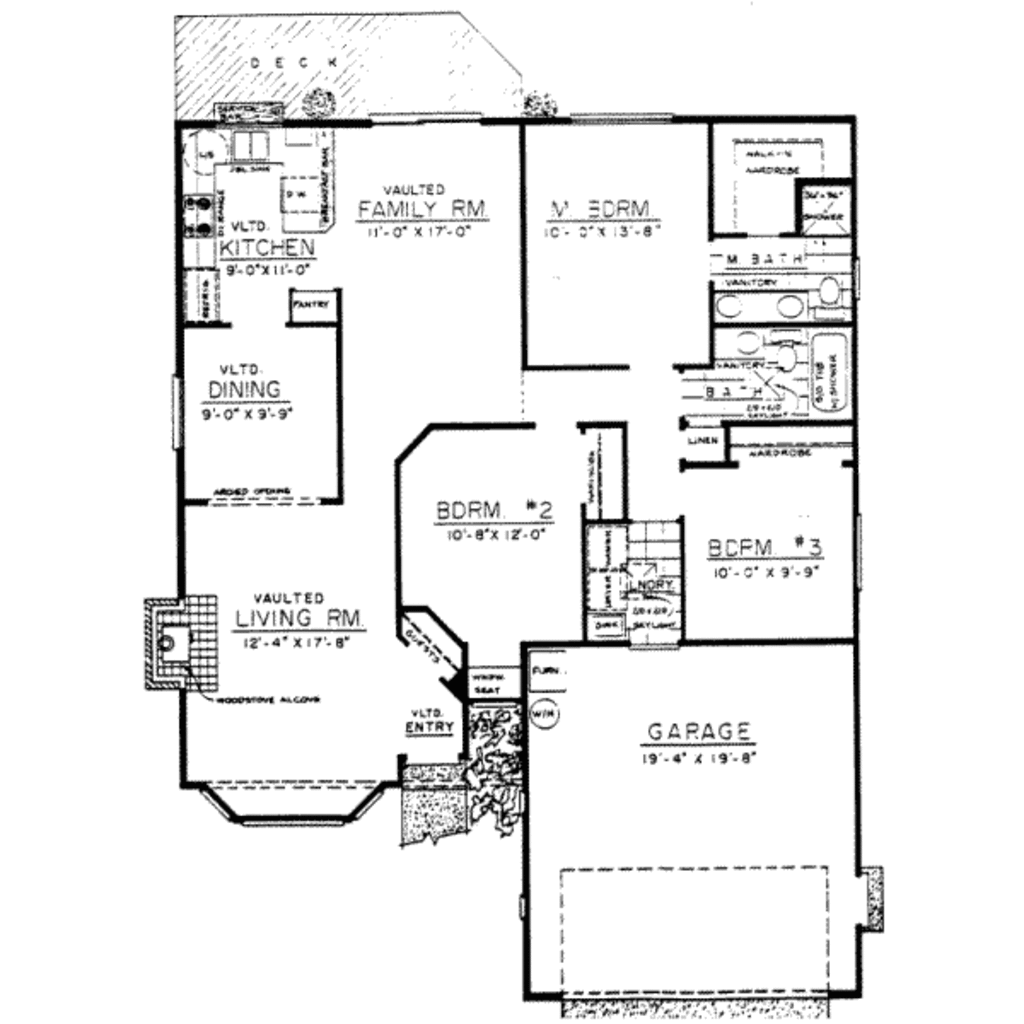large_sink: (809, 270, 853, 326), (769, 330, 807, 372)
small_sink: (715, 289, 817, 324), (721, 329, 766, 362)
tub: (812, 328, 850, 414)
twin_sink: (215, 119, 277, 173)
window: (204, 791, 388, 830), (356, 97, 493, 130), (163, 368, 204, 460), (571, 105, 678, 130)
